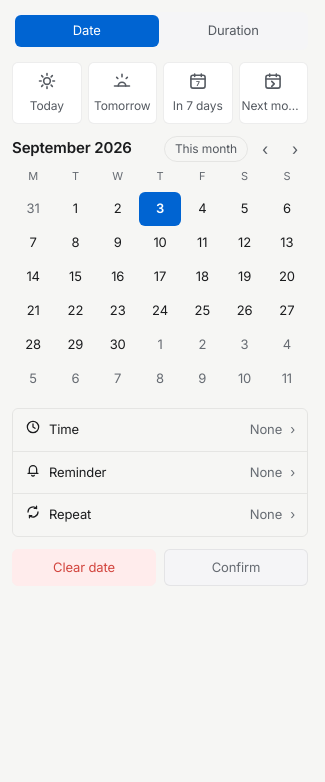
Test: Escape peels one layer at a time (§4.2) › closes the field on the next Escape, and the editor stays
Click the button "Time None ›" at (266, 429), box x1=13 y1=409 x2=307 y2=452
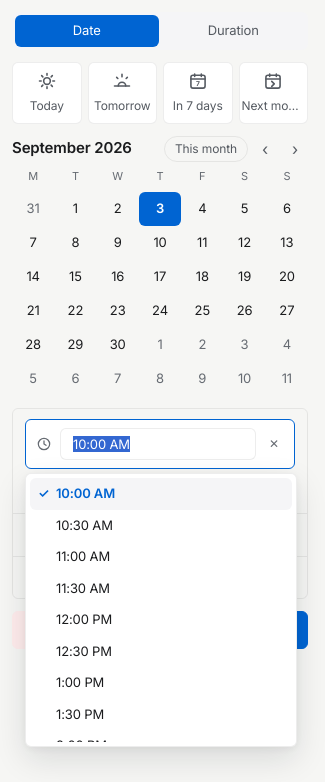
Press Escape in the dropdown named "Starts", box x1=60 y1=428 x2=256 y2=460
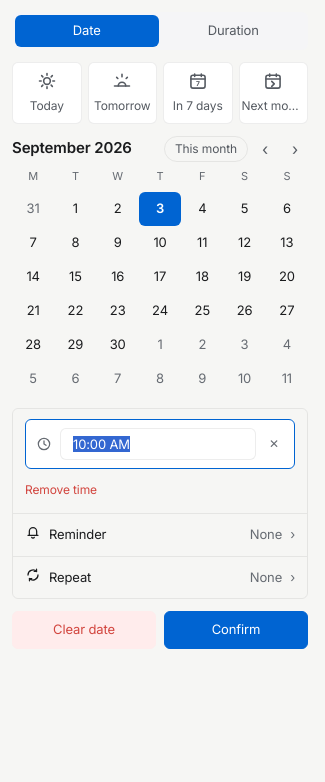
Press Escape in the dropdown named "Starts", box x1=60 y1=428 x2=256 y2=460
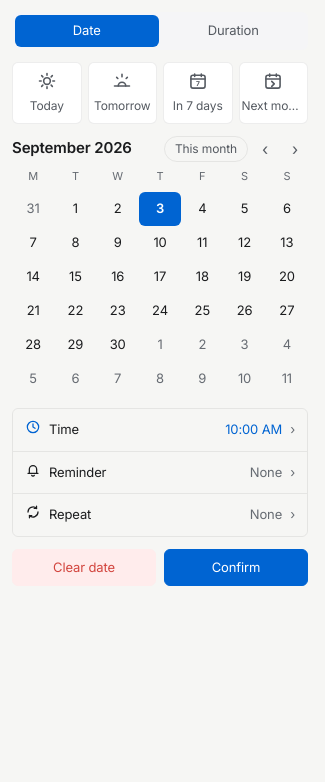
Check: the dropdown labelled "Starts" is gone
Check: the button "Time 10:00 AM ›" is shown, box x1=13 y1=409 x2=307 y2=452
